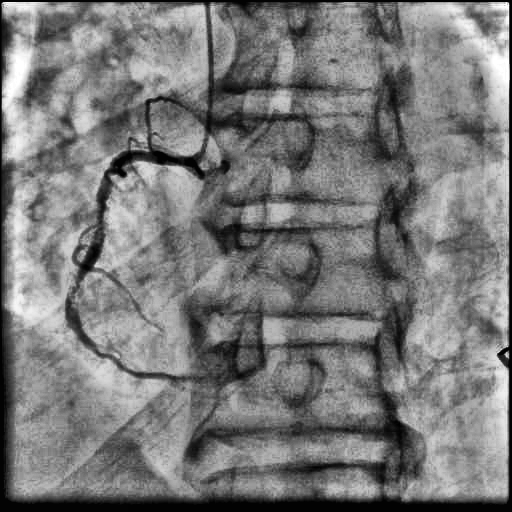rca: (65, 151, 184, 380)
